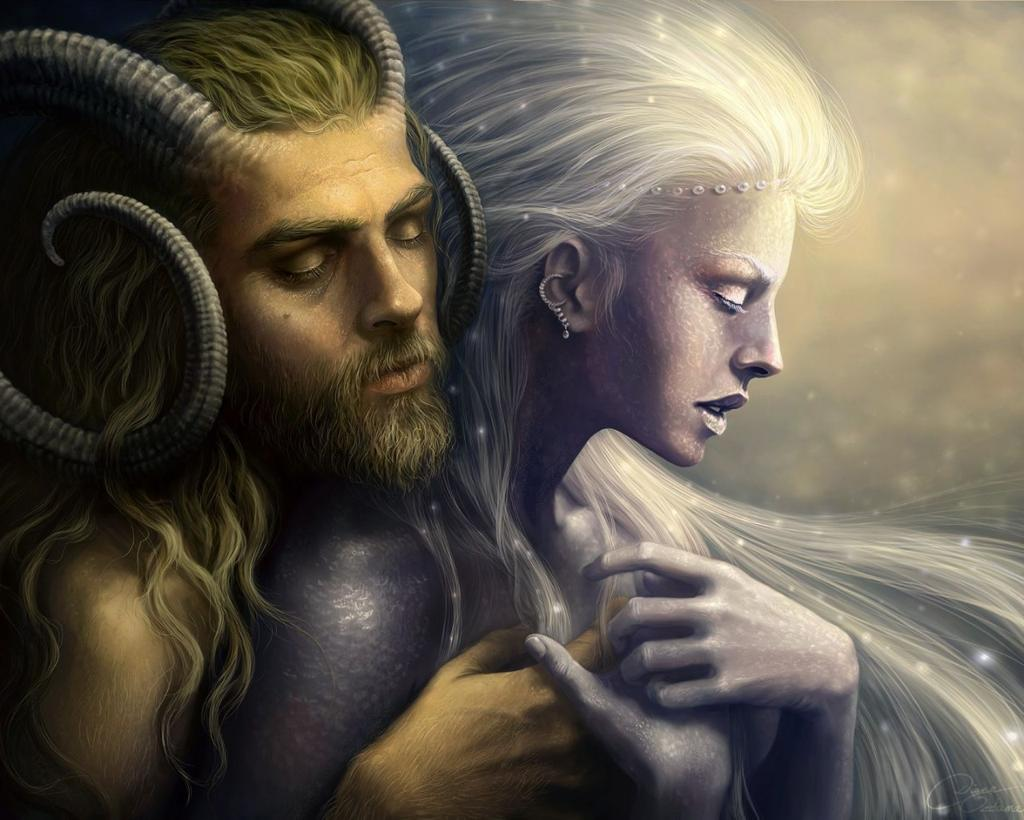face: (222, 124, 448, 454), (586, 186, 804, 464)
